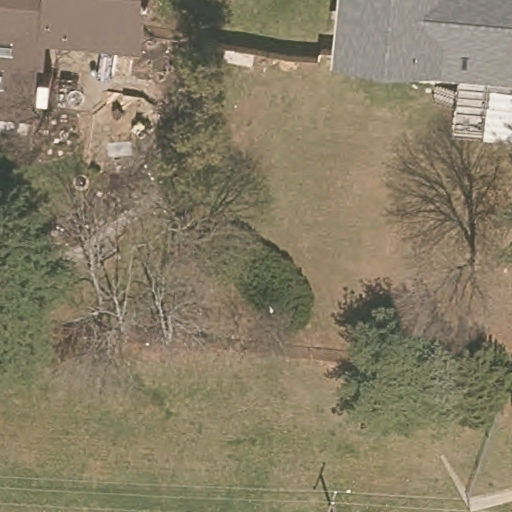DT: (324, 488, 338, 512)
